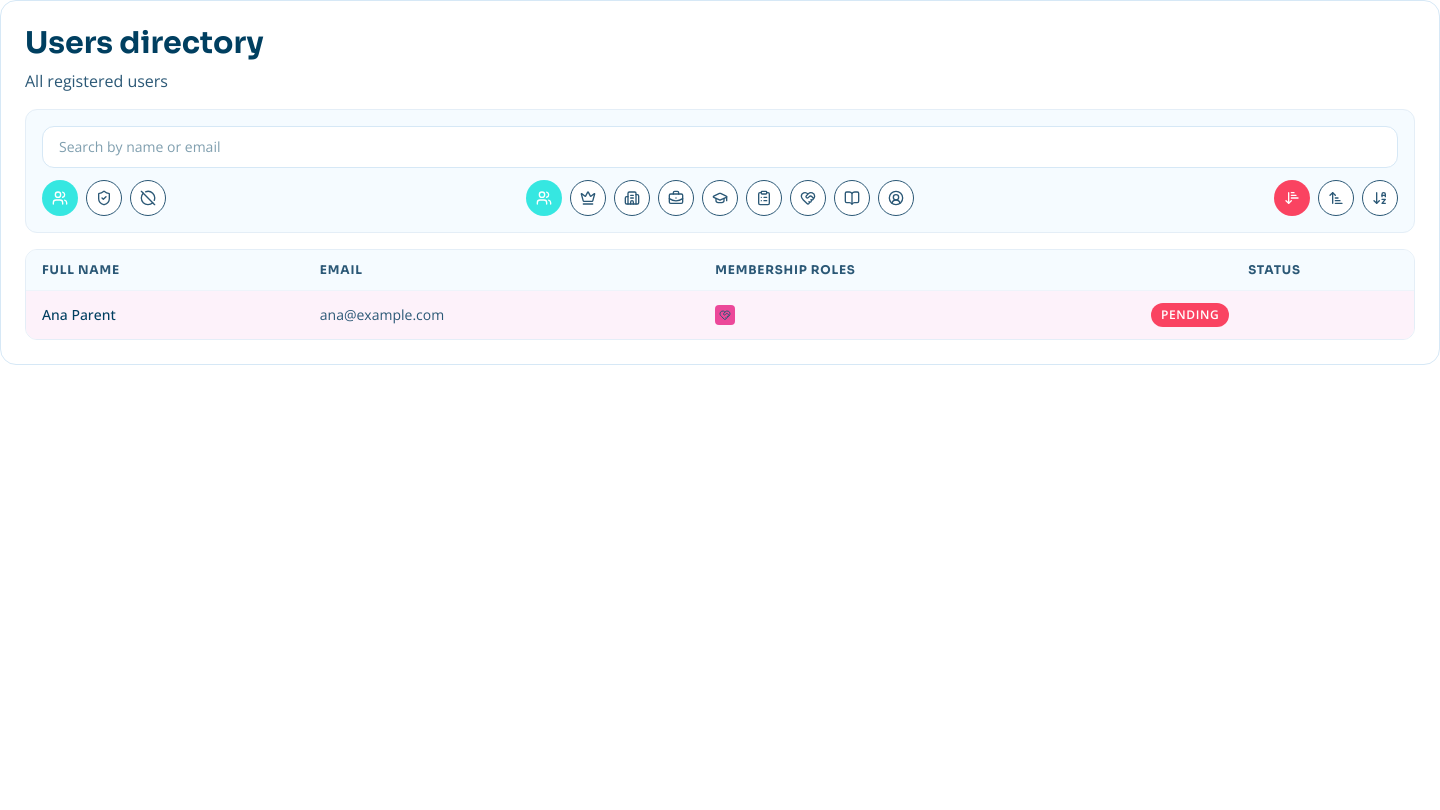
Scenario: SuperadminUsersDirectory › opens authorization modal from pending status and authorizes user
Expected: the button "Ana Parent" is shown, left=42, top=305, right=116, bottom=325
Step 1. Click the button "Pending" → (1190, 315), box left=1151, top=303, right=1229, bottom=327
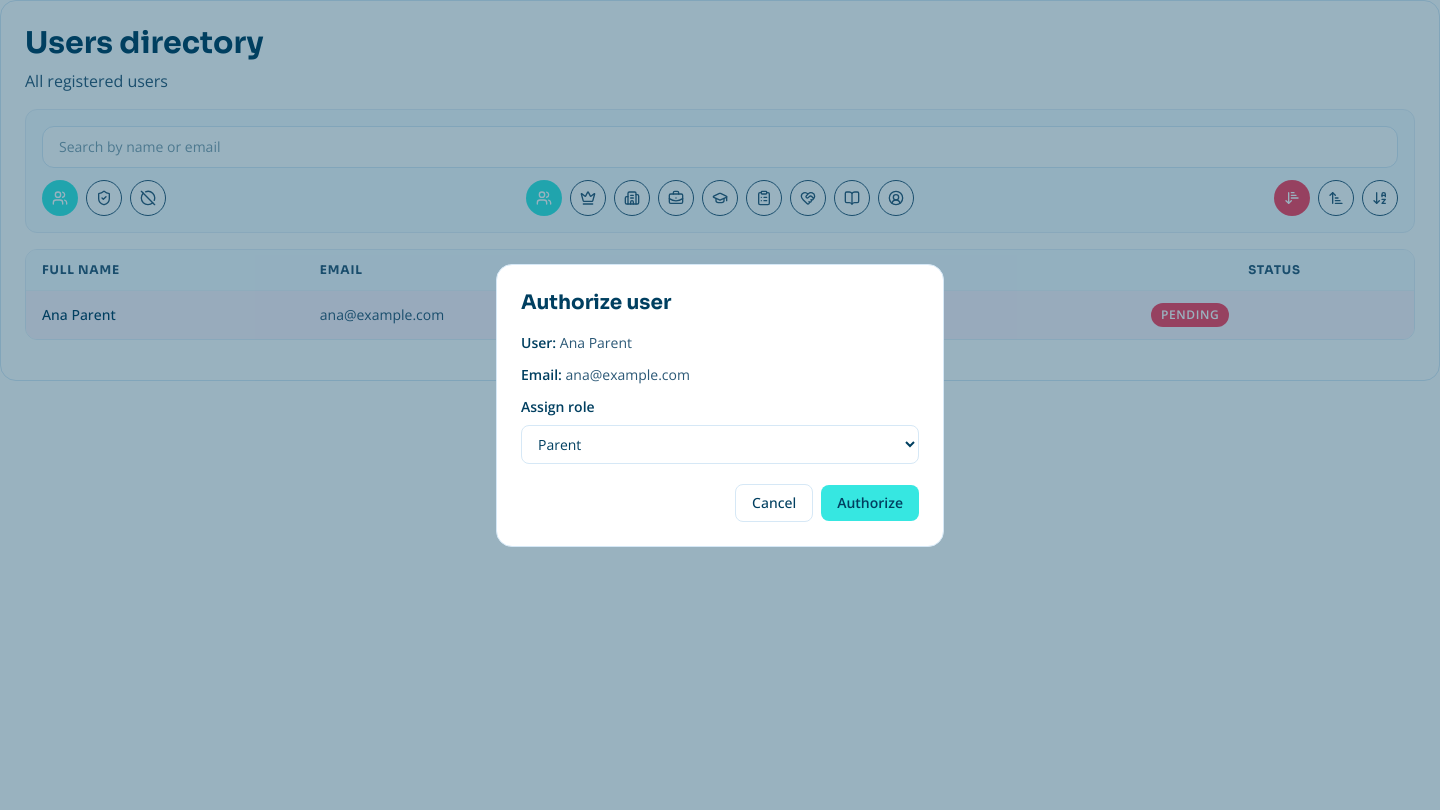
Expected: the text "ana@example.com" is shown, left=304, top=290, right=699, bottom=339
Expected: the heading "Authorize user" is shown, left=521, top=290, right=671, bottom=314
Step 2. Select "Teacher" in the dropdown labelled "Assign role" → (720, 444), box left=521, top=424, right=919, bottom=464
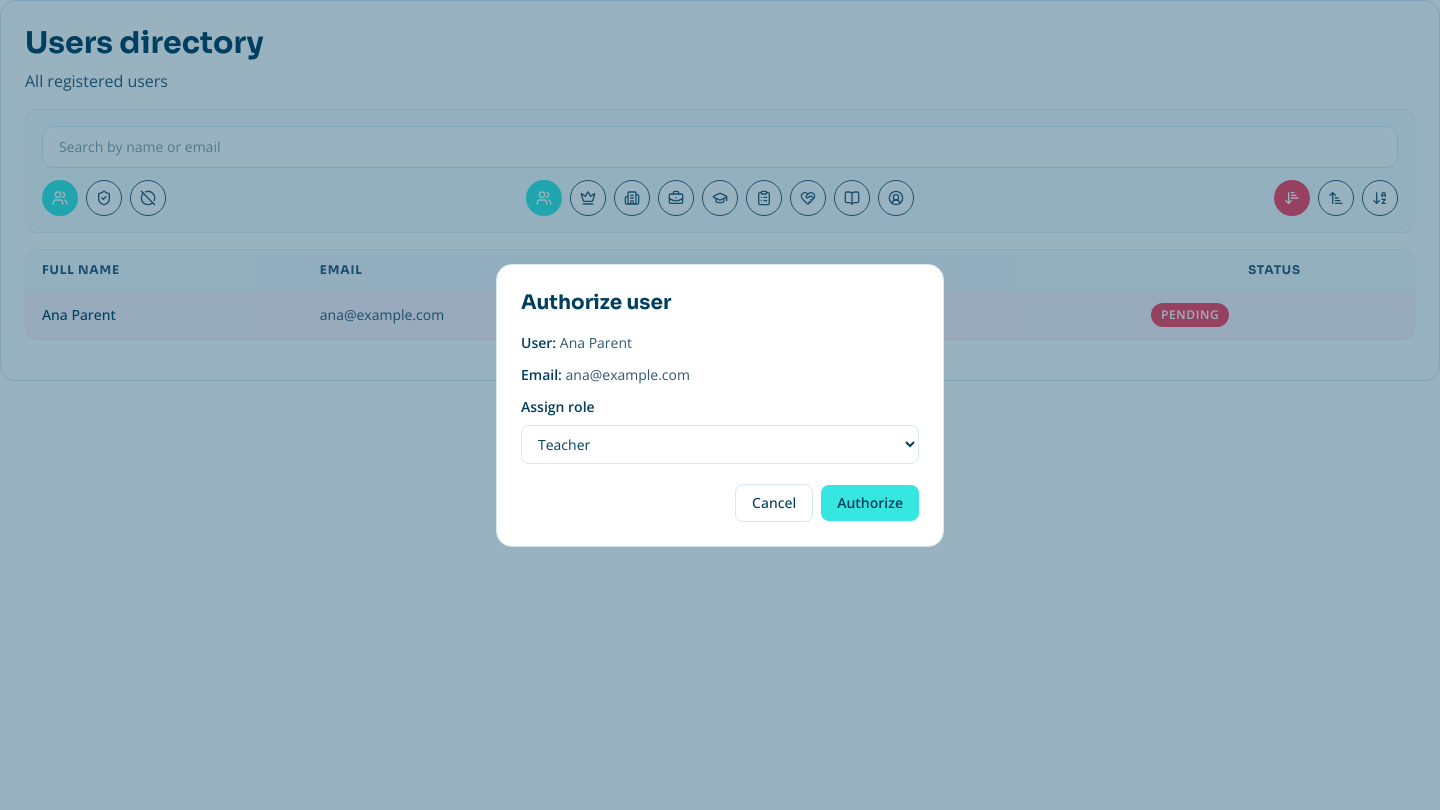
Step 3. Click the button "Authorize" → (870, 502), box left=821, top=484, right=919, bottom=520
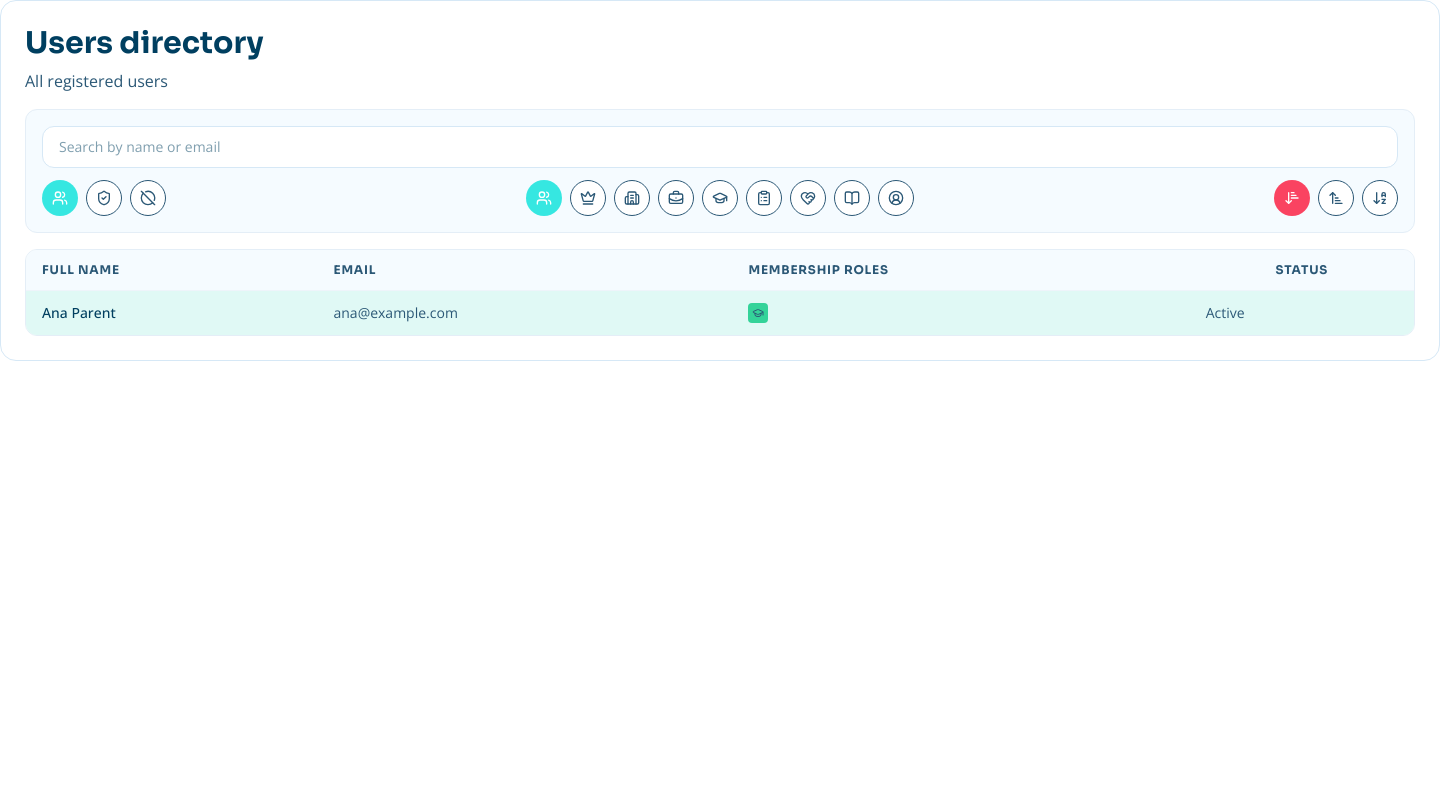
Expected: the heading "Authorize user" is gone
